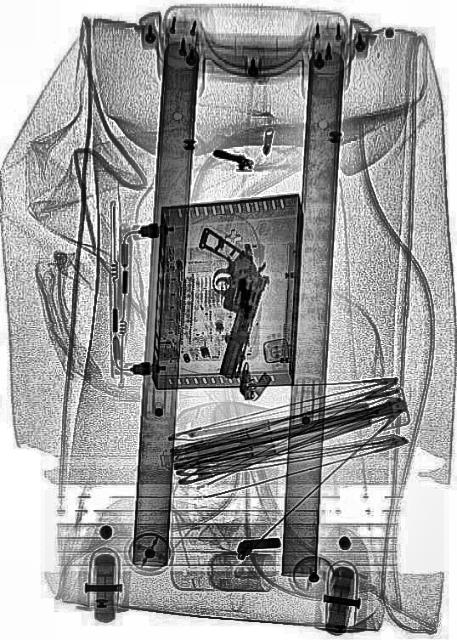Gun: (173, 224, 275, 384)
